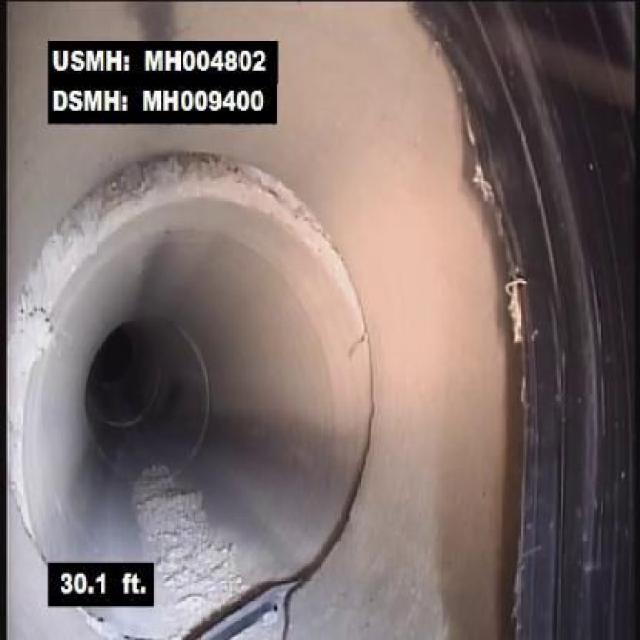Joint offset: (26, 148, 194, 282), (195, 147, 332, 256), (6, 284, 62, 448)
